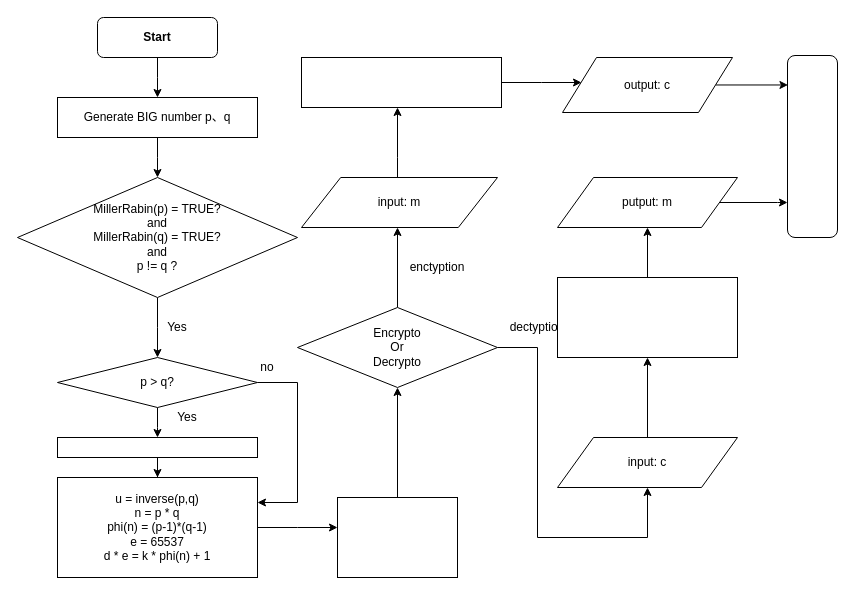
Some shapes in this 855 by 595 pixel diagram are drawn without their labels. The centre of each missing label's shape, as x and y in pixels:
c = Group(Message,16) m = c^d mod n: point (647, 317)
END: point (812, 146)
m = Group(Message,16) c = m^e mod n: point (401, 82)
Public n AND e Private d: point (397, 537)
swithc(p,q): point (157, 447)
